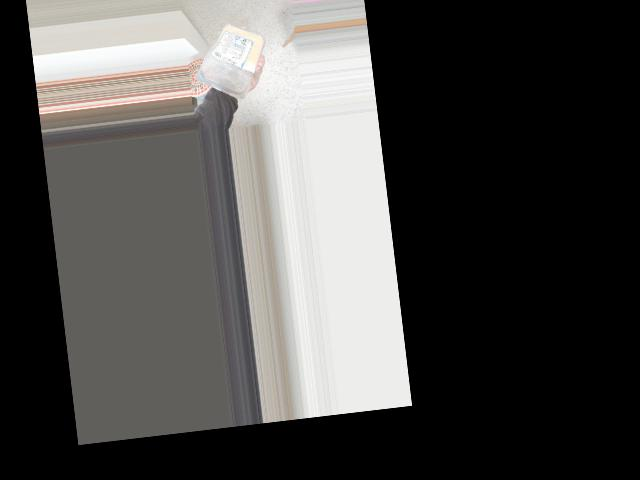cheese: (191, 15, 263, 98)
